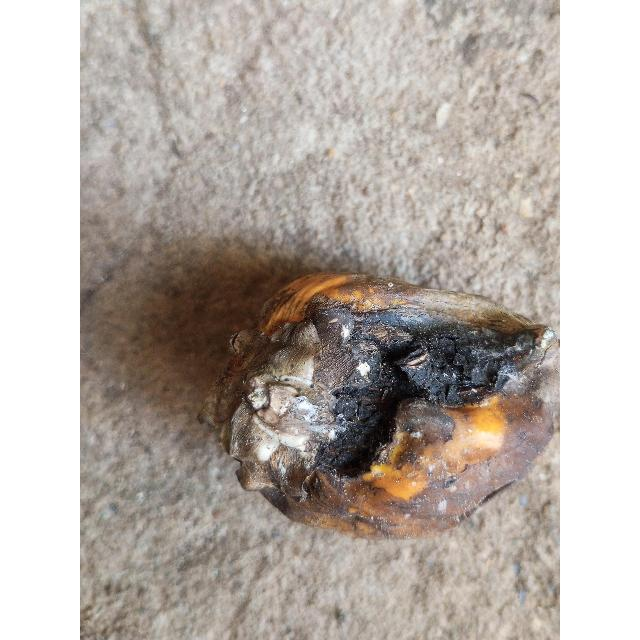damaged: (199, 273, 559, 537)
